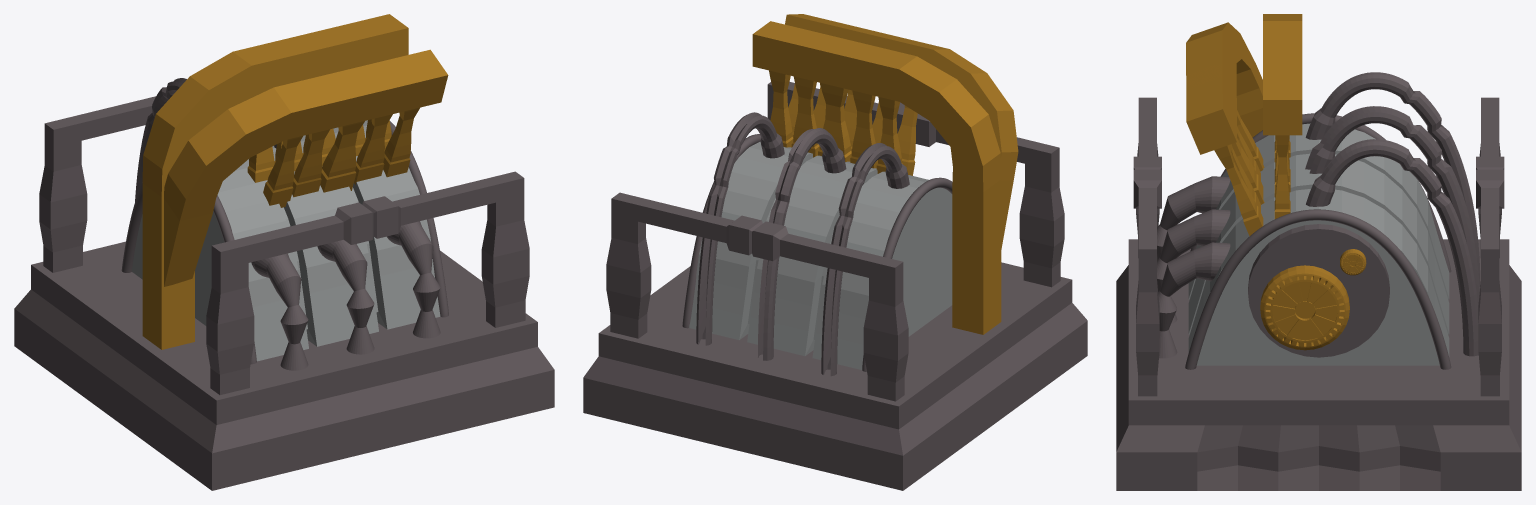
The model's file is FurnaceLevel10.fbx.
The picture shows the model from 3 angles, left to right: view 1: azimuth 30°, elevation 25°; view 2: azimuth 150°, elevation 25°; view 3: azimuth 270°, elevation 25°; orthographic projection. The views are drawn at different scales.
Parts seen in each view (by area): view 1: Cube, Cube.002, Cube.001, Cylinder, Cylinder.004, Cylinder.003, Cylinder.005, NurbsPath.001, NurbsPath, NurbsPath.003; view 2: Cube, Cylinder, Cube.001, Cube.002, NurbsPath.004, NurbsPath.003, NurbsPath.002, NurbsPath.001, NurbsPath; view 3: Cube, Cylinder, Cube.002, Cylinder.001, Cube.001, Cylinder.006, NurbsPath.004, NurbsPath, NurbsPath.002, NurbsPath.003, Cylinder.005, Cylinder.003 (+3 smaller).
Part boxes in pixels (x1,y1,x2,y2): Cube: [14, 96, 554, 490]; Cube.002: [164, 49, 448, 286]; Cube.001: [142, 14, 408, 349]; Cylinder: [132, 120, 440, 361]; Cylinder.004: [251, 253, 308, 370]; Cylinder.003: [317, 240, 374, 354]; Cylinder.005: [387, 221, 440, 338]; NurbsPath.001: [121, 183, 256, 364]; NurbsPath: [390, 121, 448, 317]; NurbsPath.003: [135, 78, 186, 201]; Cube: [583, 81, 1087, 490]; Cylinder: [689, 141, 952, 369]; Cube.001: [752, 21, 1001, 334]; Cube.002: [785, 14, 1018, 249]; NurbsPath.004: [696, 112, 784, 345]; NurbsPath.003: [821, 143, 909, 376]; NurbsPath.002: [758, 128, 846, 360]; NurbsPath.001: [862, 177, 952, 371]; NurbsPath: [682, 134, 761, 328]; Cube: [1116, 97, 1521, 490]; Cylinder: [1188, 123, 1449, 365]; Cube.002: [1186, 22, 1264, 236]; Cylinder.001: [1248, 224, 1389, 357]; Cube.001: [1263, 14, 1302, 218]; Cylinder.006: [1260, 265, 1349, 350]; NurbsPath.004: [1306, 139, 1478, 356]; NurbsPath: [1185, 209, 1451, 369]; NurbsPath.002: [1305, 106, 1479, 305]; NurbsPath.003: [1305, 72, 1480, 286]; Cylinder.005: [1158, 242, 1230, 358]; Cylinder.003: [1157, 209, 1230, 324].
Size of the model in its own units: 1.97 by 1.91 by 1.97.
